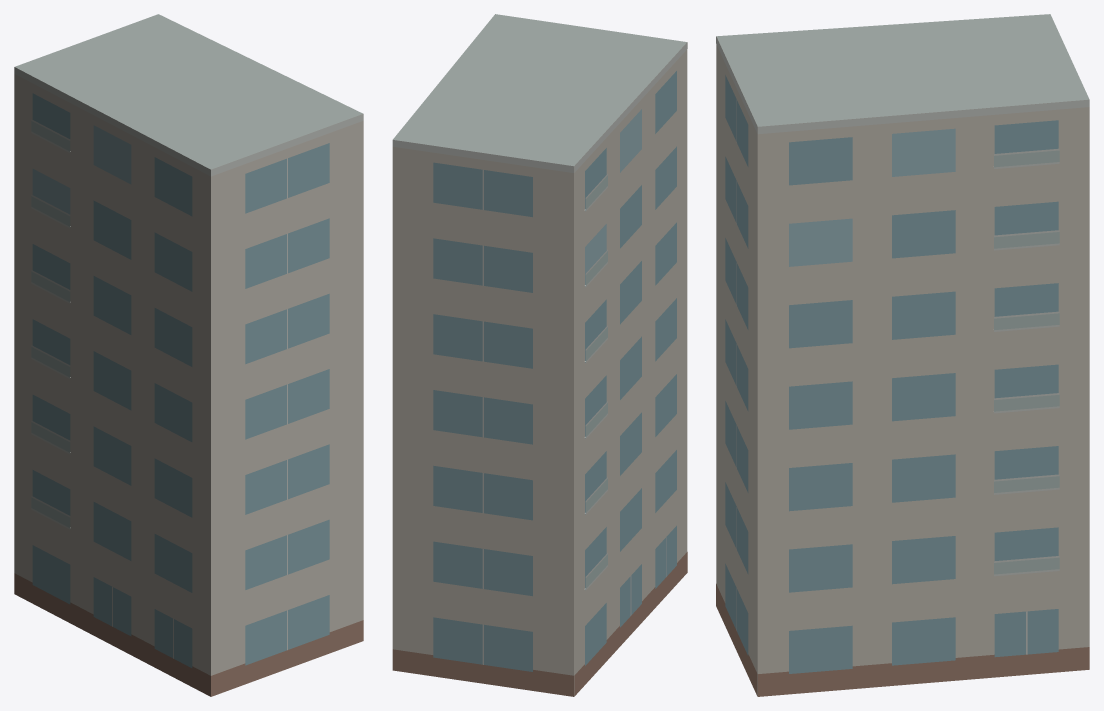
The model's file is survey-upis-32529383.glb.
The picture shows the model from 3 angles, left to right: view 1: azimuth 30°, elevation 25°; view 2: azimuth 150°, elevation 25°; view 3: azimuth 270°, elevation 25°; orthographic projection. The views are drawn at different scales.
Parts seen in each view (by area): view 1: survey-upis-32529383.tmp; view 2: survey-upis-32529383.tmp; view 3: survey-upis-32529383.tmp.
Part boxes in pixels (x1,y1,x2,y2): survey-upis-32529383.tmp: (14,14,363,696); survey-upis-32529383.tmp: (392,14,687,696); survey-upis-32529383.tmp: (716,14,1089,696).
Bounding box in the file's own units: 7.95 × 18.7 × 11.11.
